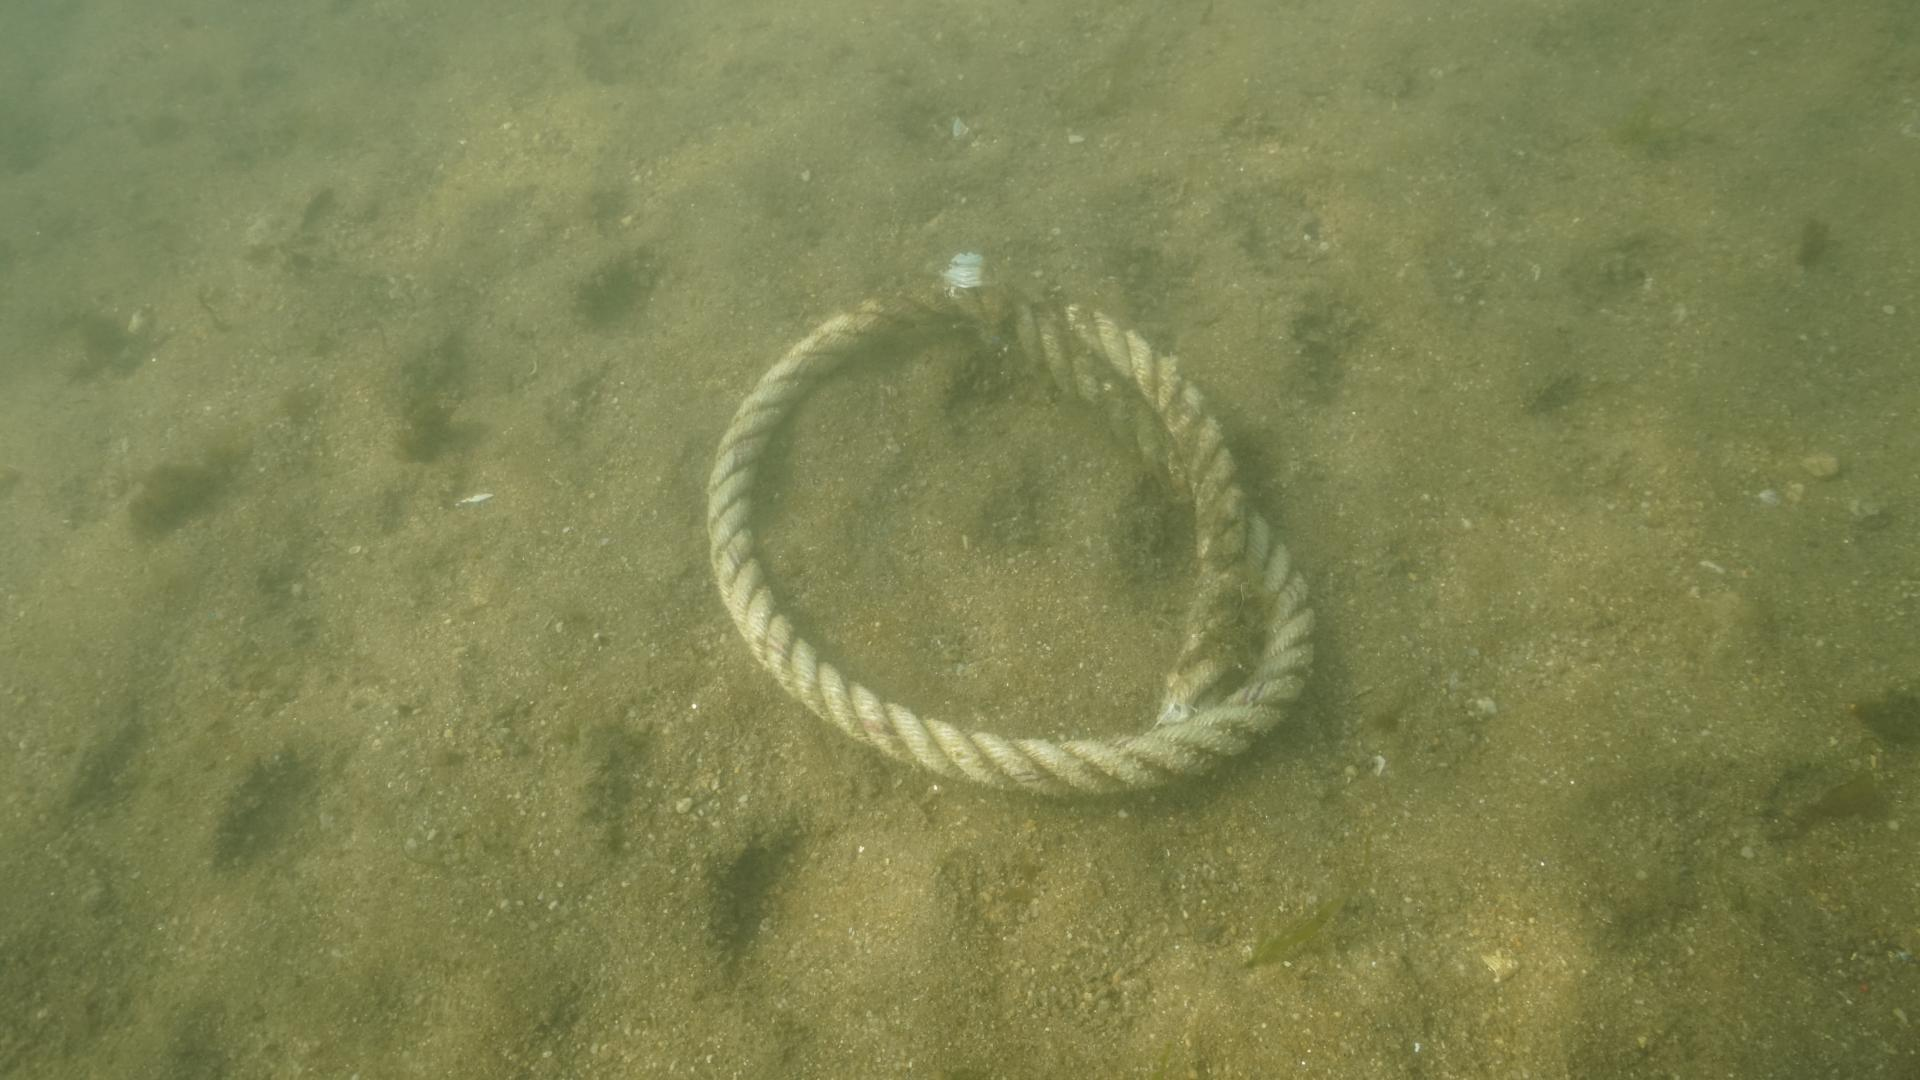bundle of ropes: (698, 251, 1323, 803)
